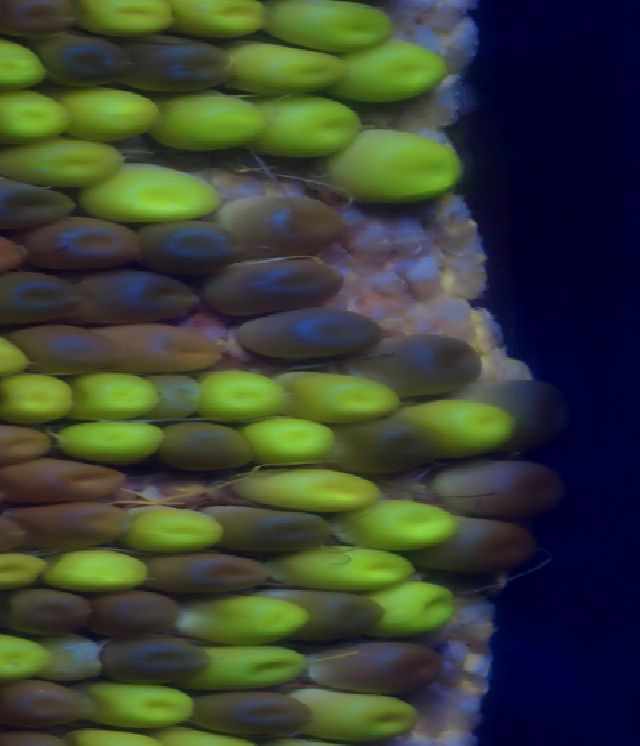fluorescent: (79, 165, 229, 226), (334, 133, 461, 199), (335, 42, 447, 111), (282, 363, 402, 424), (177, 591, 306, 647), (295, 687, 419, 745), (235, 462, 374, 513), (273, 543, 411, 594), (272, 1, 399, 56), (413, 397, 516, 464), (150, 95, 271, 151), (340, 499, 460, 553), (77, 679, 200, 731), (49, 417, 173, 468), (255, 98, 356, 158), (243, 415, 343, 472), (114, 504, 228, 554), (224, 44, 350, 89), (186, 644, 306, 691), (0, 136, 110, 187), (36, 546, 150, 594), (53, 88, 163, 137), (373, 586, 460, 644), (0, 371, 78, 434), (0, 83, 77, 145), (73, 1, 189, 41), (79, 371, 165, 422), (173, 1, 270, 41), (202, 371, 281, 420), (0, 625, 57, 686), (0, 544, 49, 592), (0, 37, 50, 84), (0, 329, 31, 380)
nonfluorescent: (361, 329, 487, 399), (410, 514, 546, 575), (426, 460, 558, 521), (199, 504, 340, 559), (238, 311, 384, 360), (124, 30, 234, 95), (139, 544, 276, 596), (265, 585, 390, 640), (188, 689, 317, 742), (297, 643, 447, 688), (96, 325, 227, 376), (29, 213, 144, 271), (201, 266, 351, 310), (483, 385, 580, 453), (30, 28, 136, 90), (223, 196, 337, 252), (136, 224, 241, 283), (70, 273, 204, 319), (147, 423, 260, 477), (6, 506, 137, 551), (0, 457, 136, 500), (0, 671, 100, 727), (2, 327, 120, 374), (96, 635, 212, 681), (320, 428, 431, 468), (83, 590, 192, 630), (0, 170, 76, 226), (12, 586, 93, 637), (0, 272, 79, 320), (0, 423, 53, 470), (0, 226, 30, 280)
